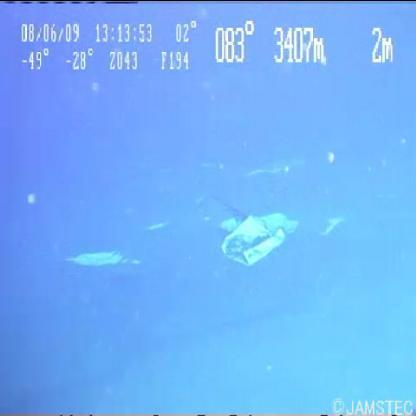Rác: (202, 185, 314, 274)
